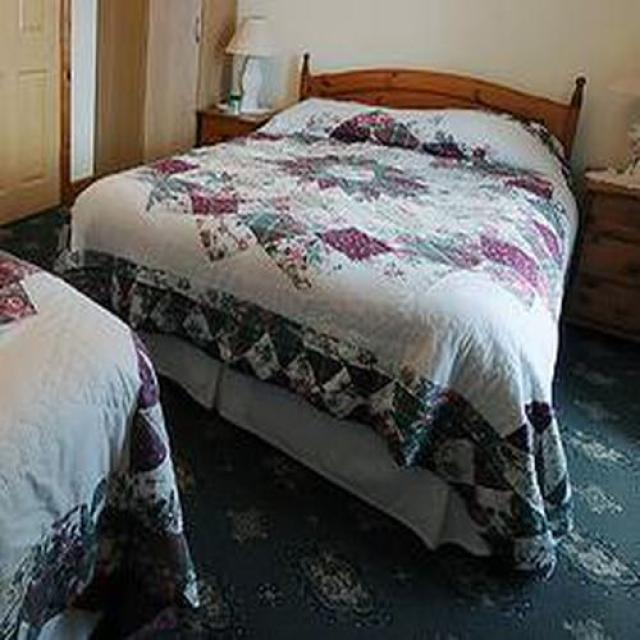bed: (54, 81, 582, 585)
